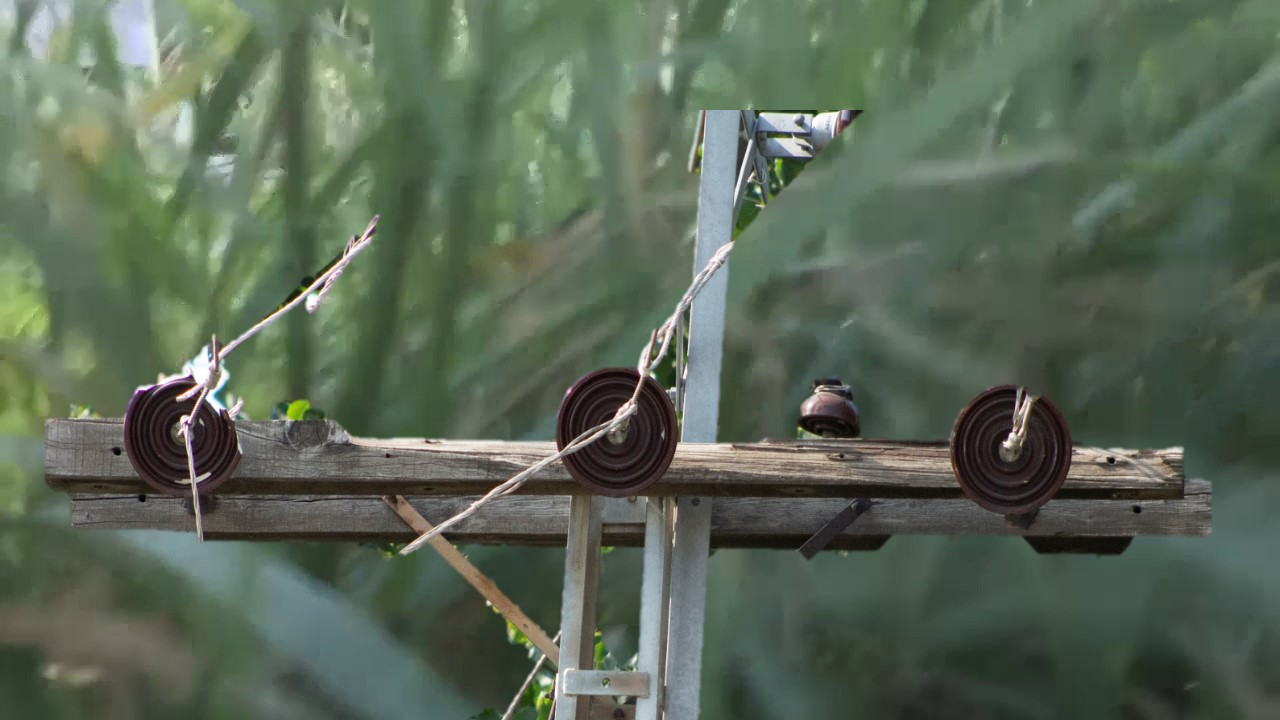defect_disc: (118, 364, 243, 503)
insulator_disc: (944, 376, 1073, 521), (550, 361, 682, 502)
insulator_pin: (796, 374, 865, 437)
